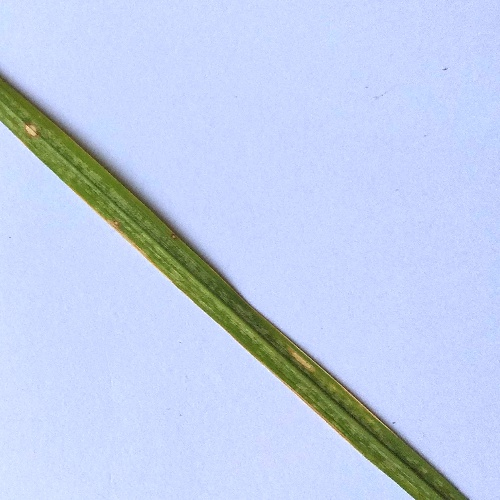Busuk Leher: (288, 337, 322, 375), (19, 114, 43, 145)
